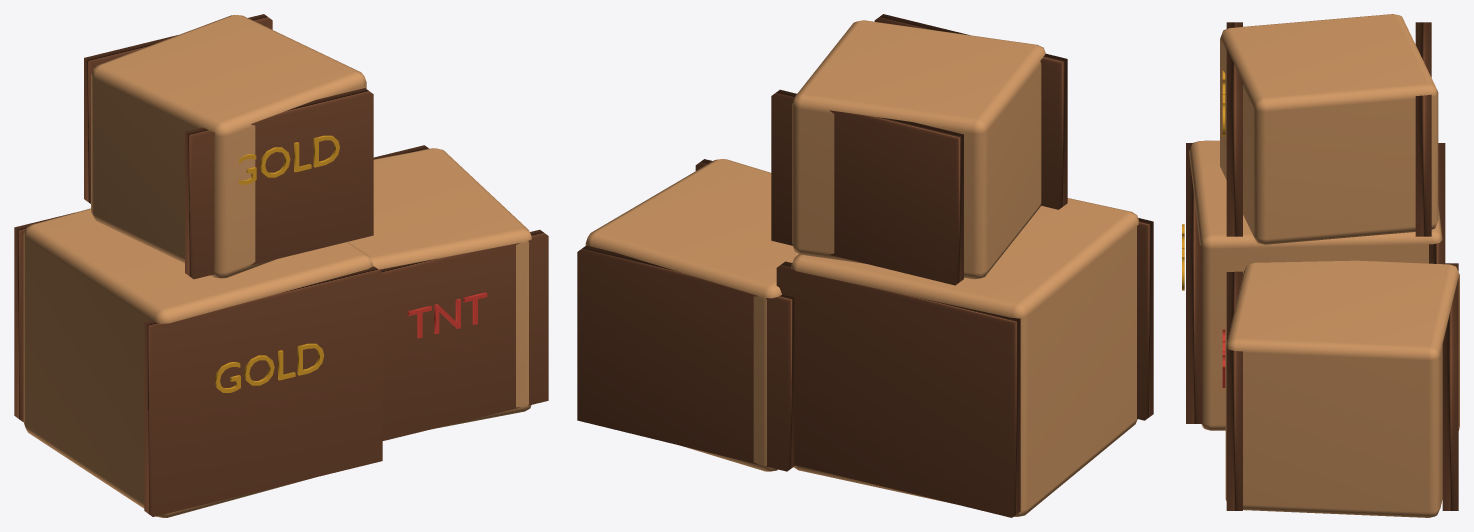
File: gulch_crates.glb
The picture shows the model from 3 angles, left to right: view 1: azimuth 30°, elevation 25°; view 2: azimuth 150°, elevation 25°; view 3: azimuth 270°, elevation 25°; orthographic projection. The views are drawn at different scales.
Parts seen in each view (by area): view 1: Crates; view 2: Crates; view 3: Crates.
Boxes of the visible parts, x1,y1,x2,y2 form: Crates: (14, 14, 548, 517); Crates: (577, 14, 1153, 517); Crates: (1182, 14, 1459, 517).
Bounding box in the file's own units: 1.7 × 1.4 × 1.03.
